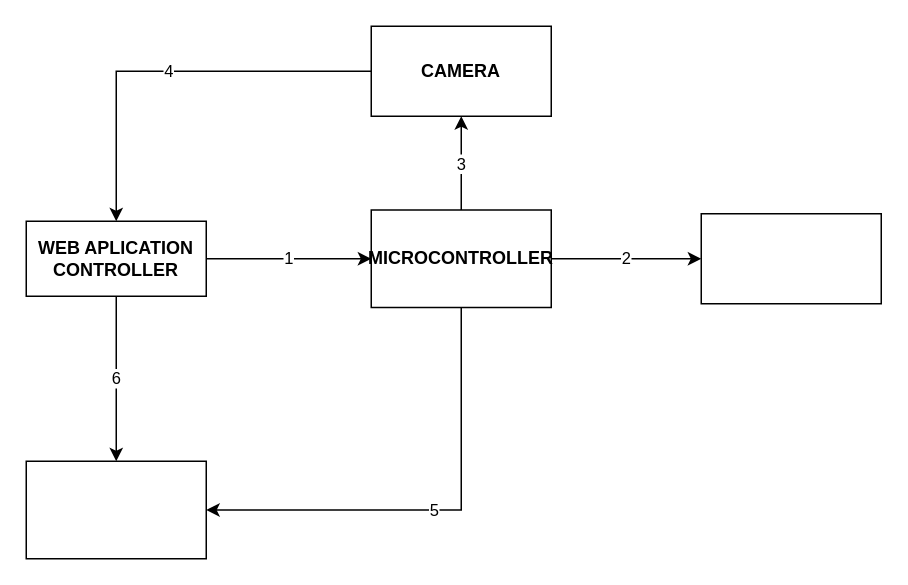
Some shapes in this 908 by 585 pixel diagram are drawn without their labels. The shapes that lost their labels are listed below. From the top down, each one's centre as x and y in pixels, then its label:
At [790,258]: "CONTROL GEARBOX".
At [115,509]: "TELEGRAM MESSENGER".
